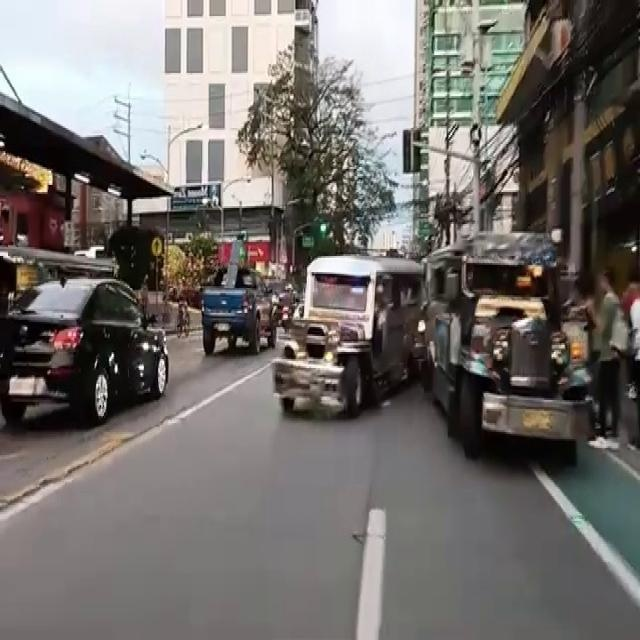car: (12, 275, 151, 421), (199, 265, 269, 363)
jeepney: (432, 242, 592, 456), (262, 256, 427, 427)
